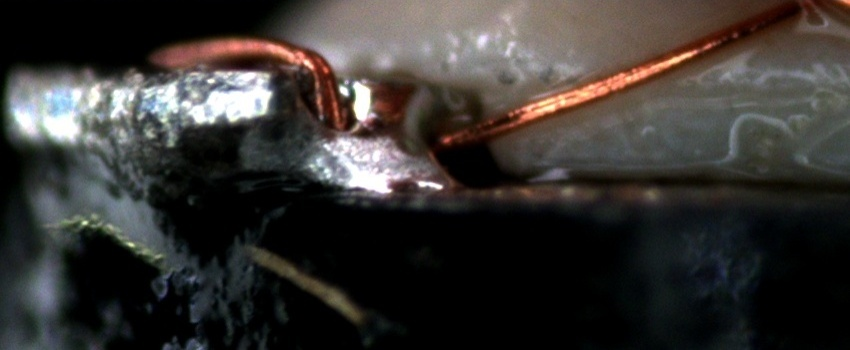CL: (754, 1, 835, 29)
TE: (151, 32, 359, 132)
